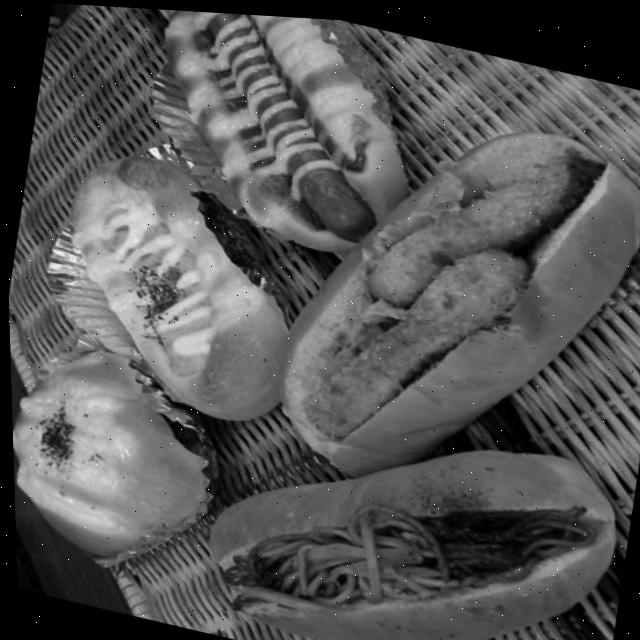三明治: (250, 69, 640, 525), (158, 368, 639, 640), (124, 6, 429, 250)
